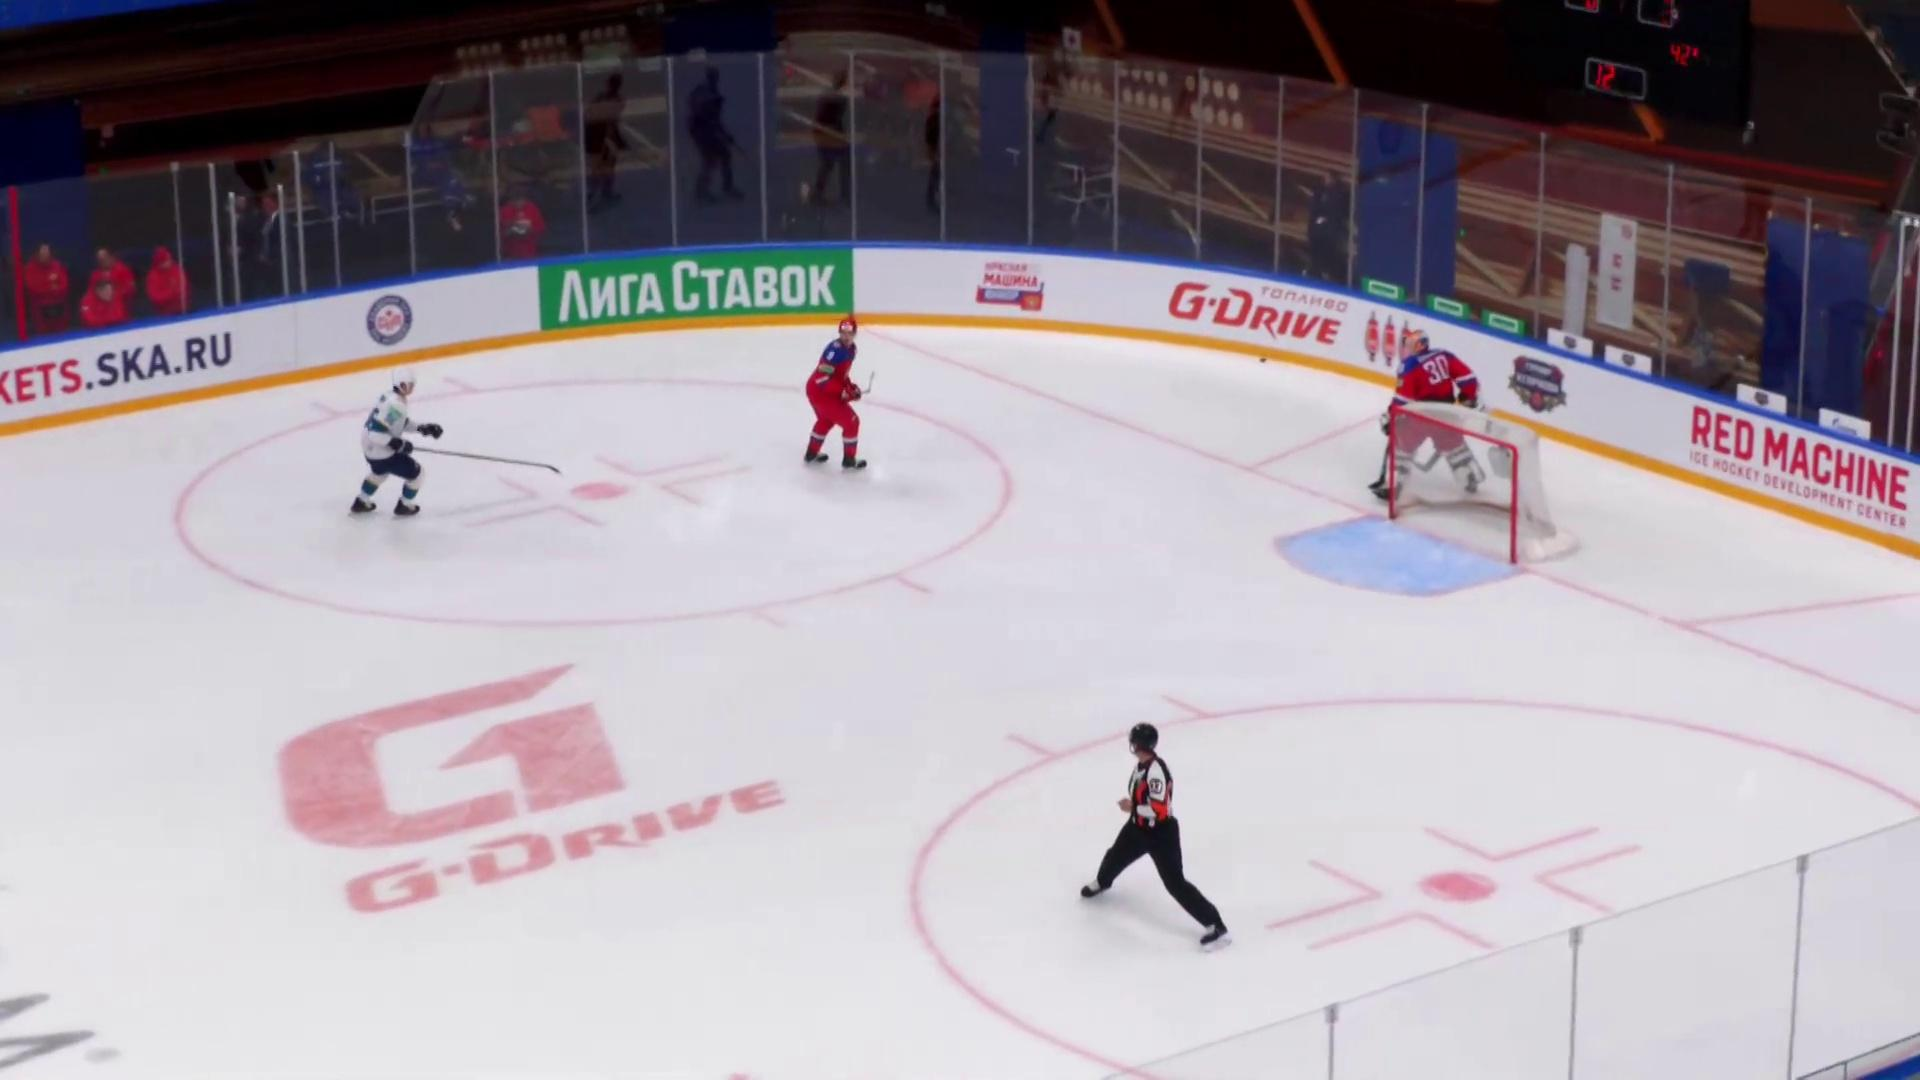ball: (1259, 357, 1267, 363)
